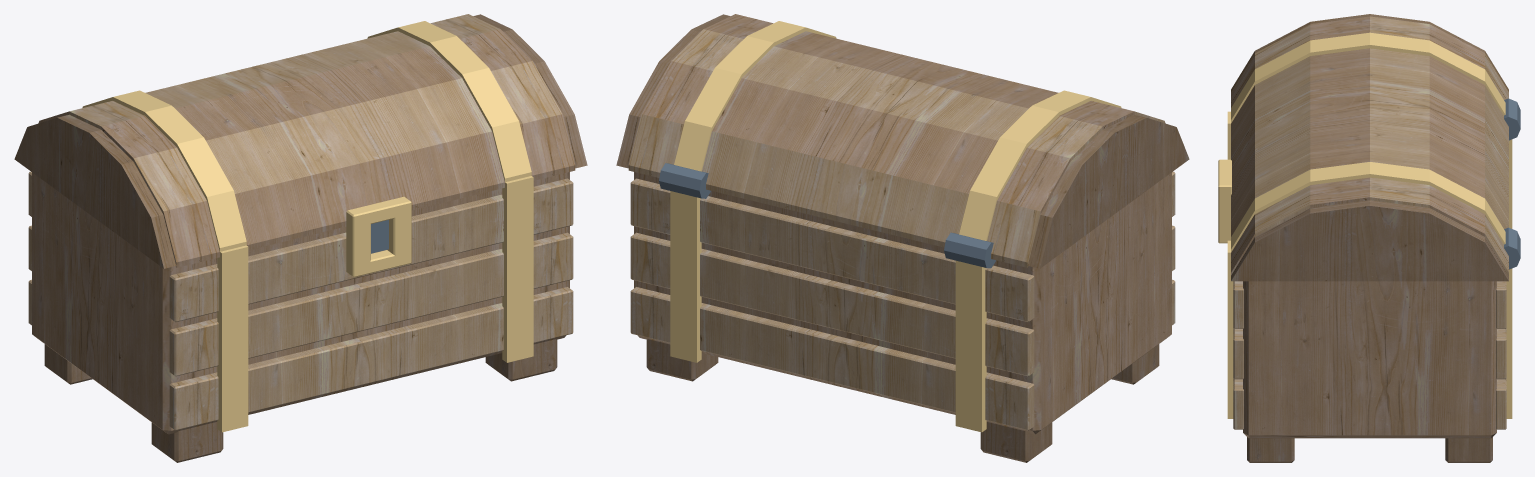
The model's file is build_chest.glb.
The picture shows the model from 3 angles, left to right: view 1: azimuth 30°, elevation 25°; view 2: azimuth 150°, elevation 25°; view 3: azimuth 270°, elevation 25°; orthographic projection. The views are drawn at different scales.
Visible parts, largest first — view 1: build_chest; view 2: build_chest; view 3: build_chest.
Boxes of the visible parts, x1=… form: build_chest: x1=14, y1=14, x2=587, y2=462; build_chest: x1=616, y1=14, x2=1189, y2=462; build_chest: x1=1218, y1=14, x2=1520, y2=462.
Bounding box in the file's own units: 1.2 × 0.8 × 0.8.
Materials: 5 (3 with a texture image).
